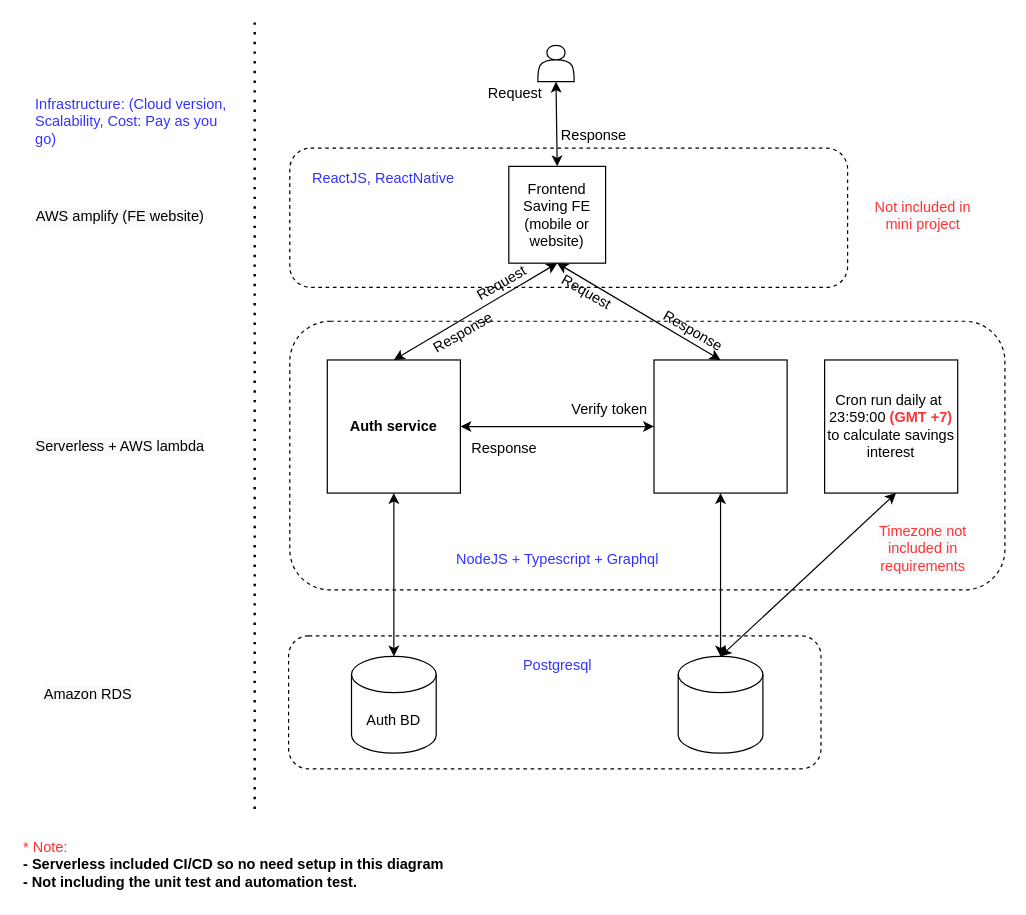
Image size: 1026x915. Some labels were removed from this diagram. Each missing label, with the centre of its shape:
"Savings BD" belongs at (720,704).
"Savings service included middleware verify token" belongs at (720,426).
